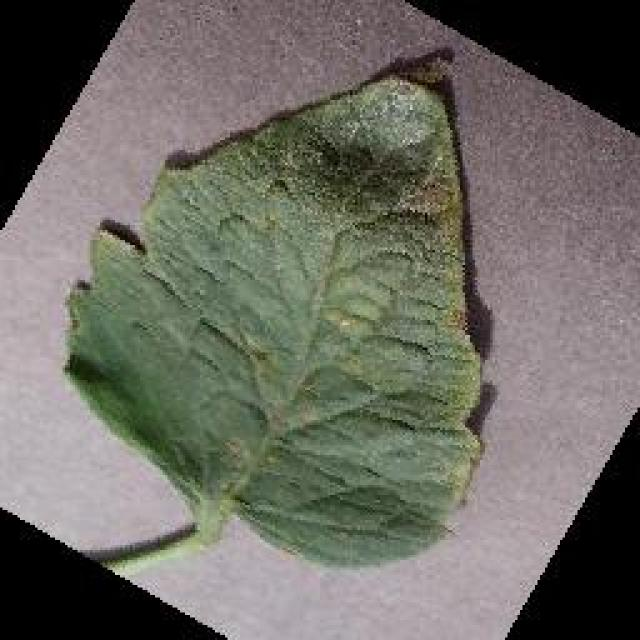Tomato___Target_Spot: (65, 48, 480, 575)
